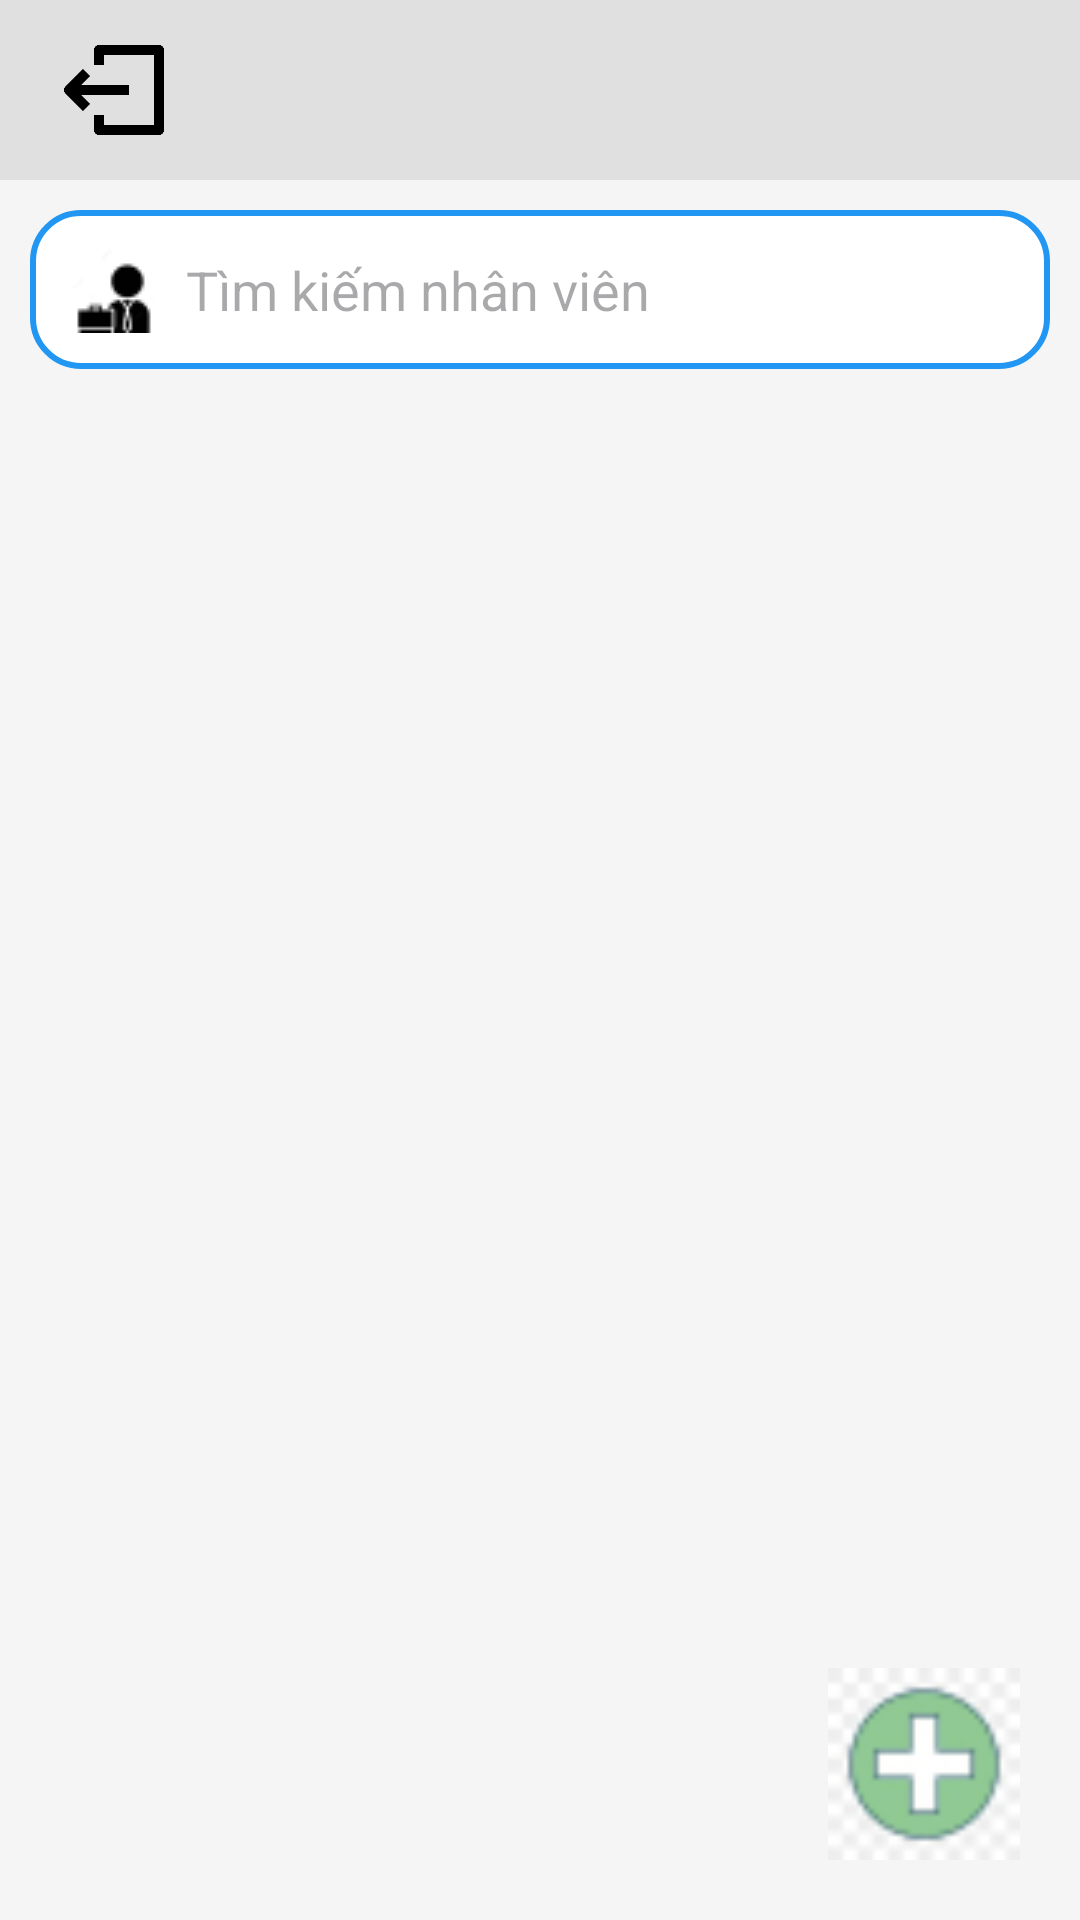

Point at icon controls on the screen. Image size 1080*1920, points as (x=x, y=y).
Add Employee: (x=924, y=1764)
Exit Button: (x=114, y=90)
